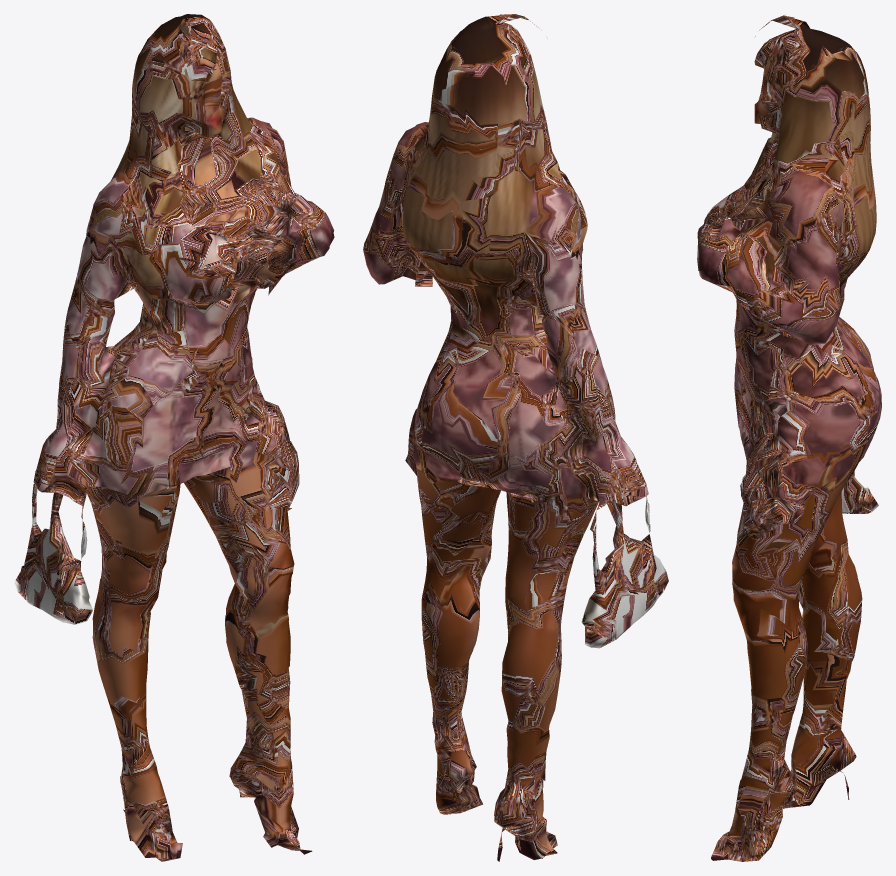
The model's file is pink_mini_dress.glb.
3 views of the same model, side by side, from view 1: azimuth 30°, elevation 25°; view 2: azimuth 150°, elevation 25°; view 3: azimuth 270°, elevation 25° (orthographic). The views are drawn at different scales.
Parts seen in each view (by area): view 1: body; view 2: body; view 3: body.
Boxes of the visible parts, <box> form: body: <box>14,14,334,861</box>; body: <box>363,14,668,861</box>; body: <box>697,15,881,861</box>.
Size of the model in its own units: 0.6098 by 1.76 by 0.3659.
Materials: 1 (1 with a texture image).
